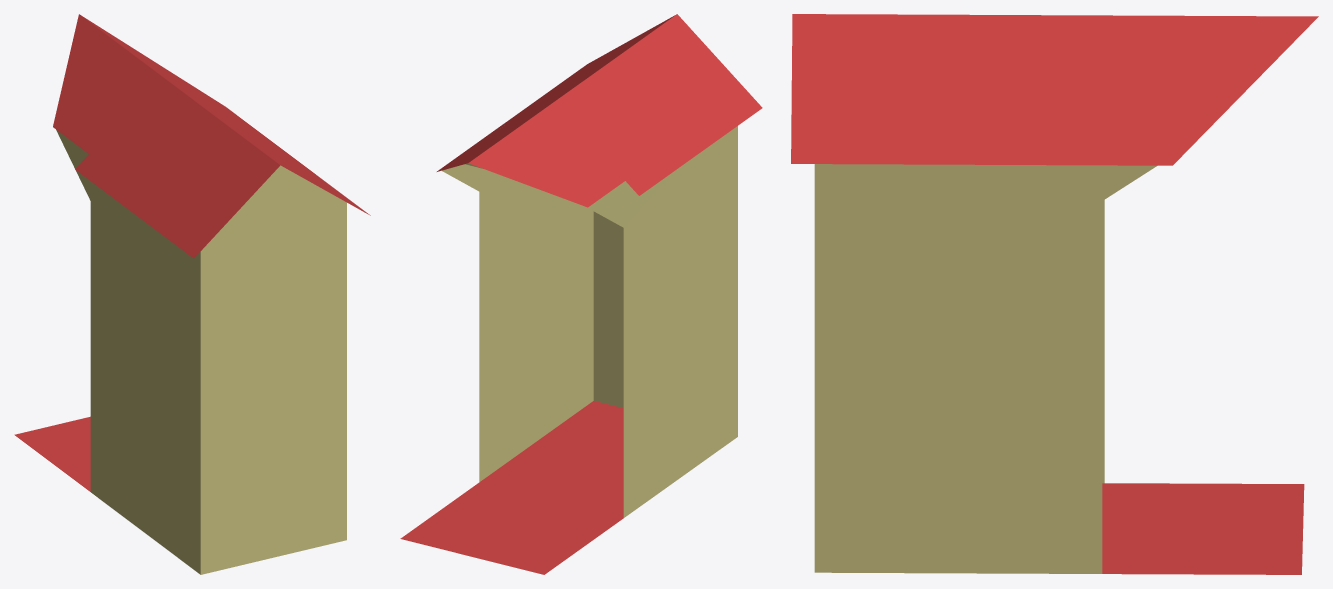
3 renders of one model, left to right at view 1: azimuth 30°, elevation 25°; view 2: azimuth 150°, elevation 25°; view 3: azimuth 270°, elevation 25°, orthographic. The views are drawn at different scales.
Bounding box in the file's own units: 5.72 × 11.35 × 12.14.
